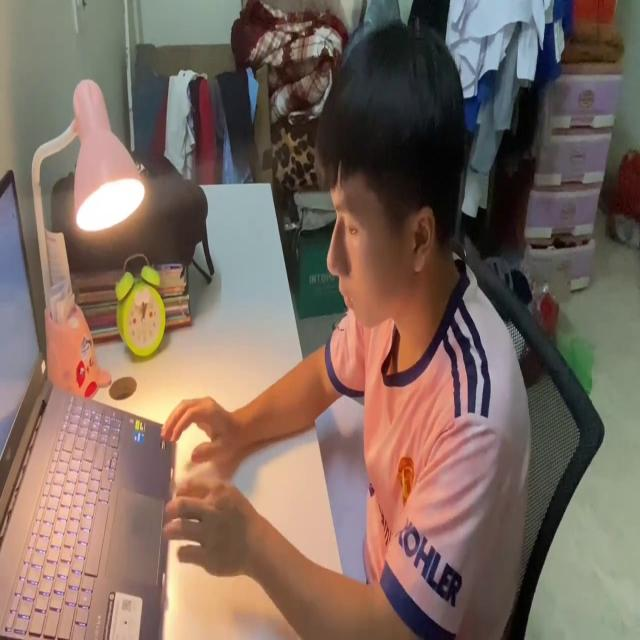book: (312, 391, 372, 585)
laptop: (0, 163, 178, 640)
student: (158, 13, 532, 640)
